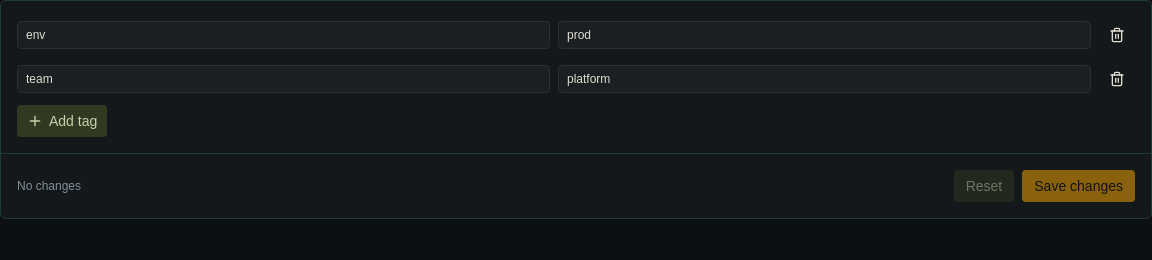
TagsEditor › blocks submit on a duplicate key
Replace the text in the 2nd field named "Tag key" with "env" at {"x": 284, "y": 79}, box [17,65,550,93]
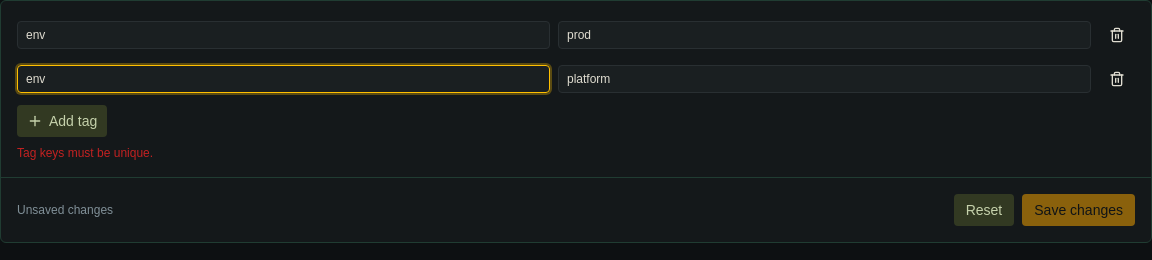
Expected: the button "Save changes" is disabled, [1022,194,1135,226]
Now the text "Tag keys must be unique." is shown, box [17,146,153,160]
